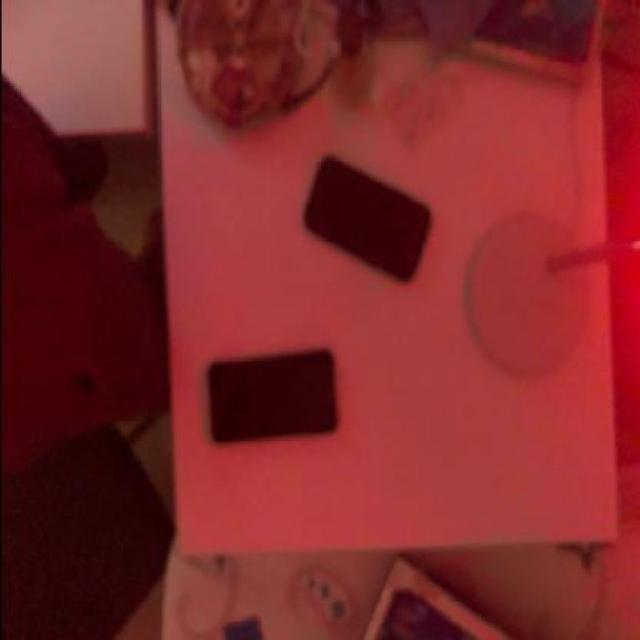phone: (302, 159, 428, 285), (207, 346, 339, 452)
